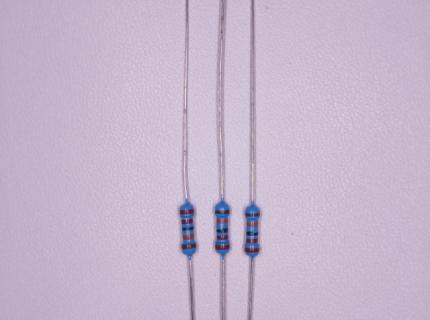Black band: (216, 228, 228, 233), (182, 226, 194, 231), (247, 231, 258, 236)
Brown band: (181, 243, 196, 249), (245, 212, 260, 217), (215, 210, 230, 215)
Orange band: (246, 221, 258, 227), (183, 234, 194, 240), (217, 219, 228, 224)
Red band: (215, 244, 229, 250), (244, 248, 260, 253), (179, 209, 194, 214), (182, 218, 193, 224), (246, 239, 258, 244), (217, 235, 228, 240)
